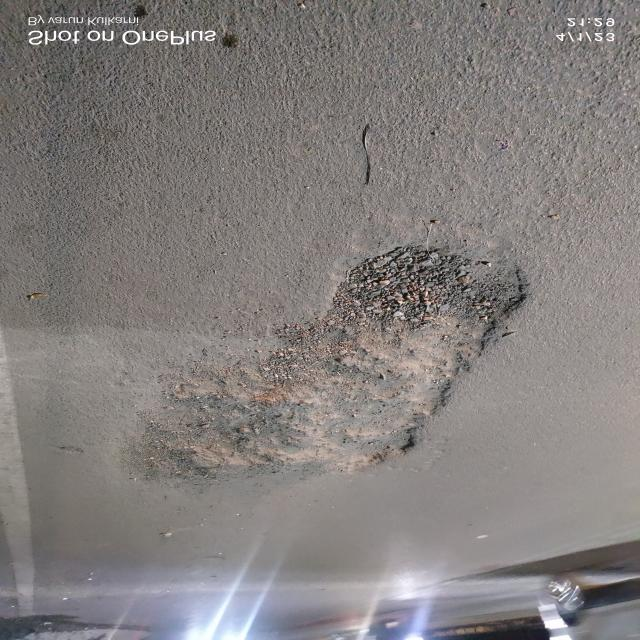potholes: (109, 239, 541, 484)
